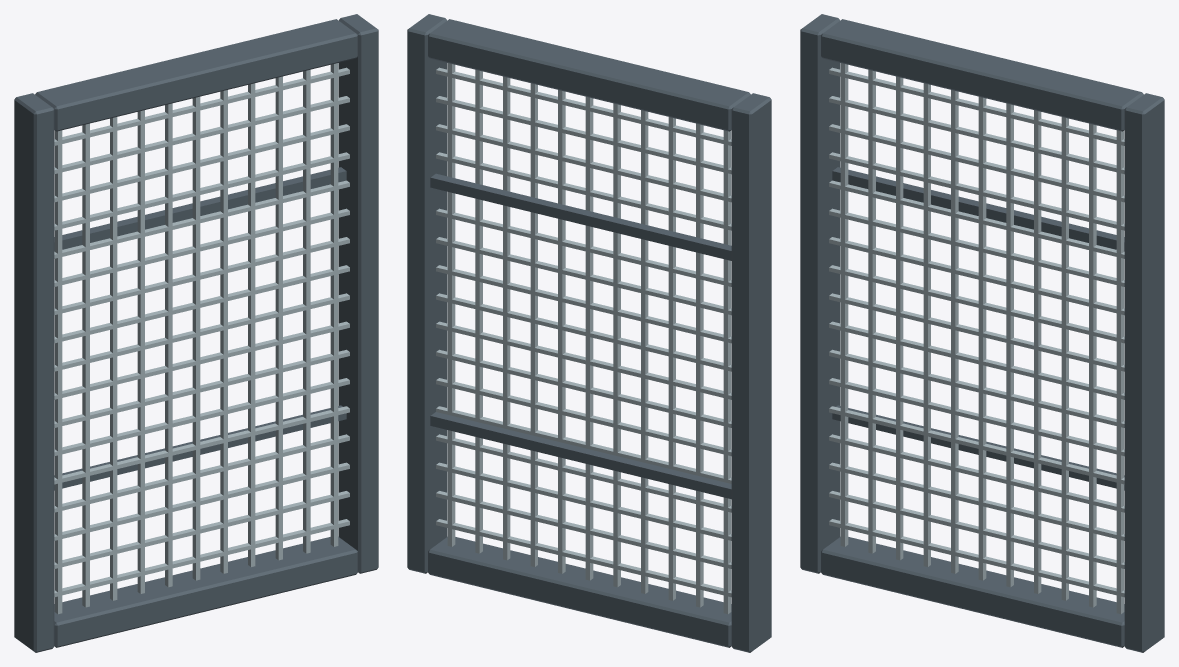
The model's file is 01_wall_metal_grille.glb.
The picture shows the model from 3 angles, left to right: view 1: azimuth 30°, elevation 25°; view 2: azimuth 150°, elevation 25°; view 3: azimuth 330°, elevation 25°; orthographic projection.
Parts seen in each view (by area): view 1: 01_wall_metal_grille; view 2: 01_wall_metal_grille; view 3: 01_wall_metal_grille.
Boxes of the visible parts, x1=… form: 01_wall_metal_grille: x1=14, y1=14, x2=378, y2=652; 01_wall_metal_grille: x1=407, y1=14, x2=771, y2=652; 01_wall_metal_grille: x1=800, y1=14, x2=1164, y2=652.
Bounding box in the file's own units: 2 × 3 × 0.22.
